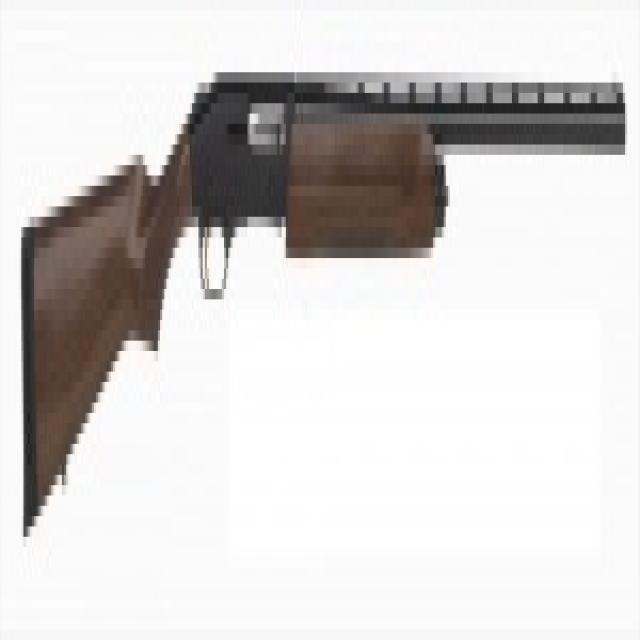rifle: (17, 20, 628, 571)
